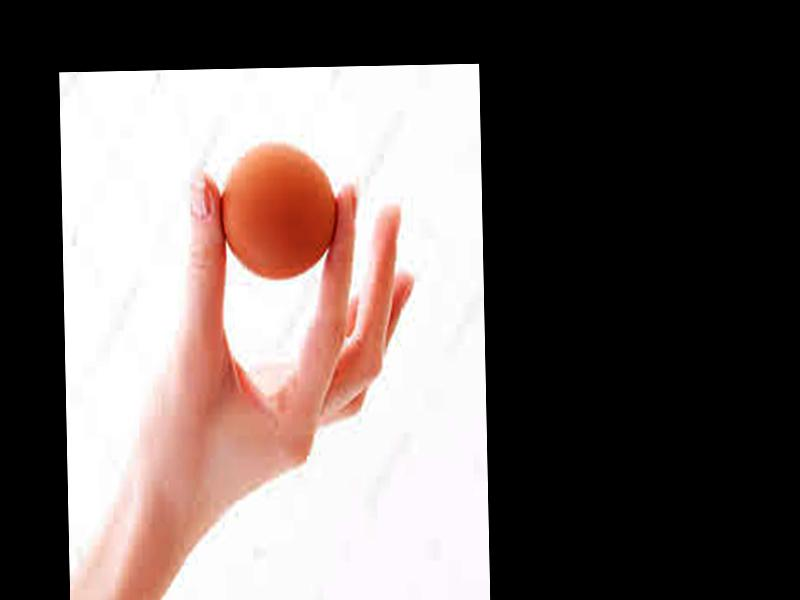Eggs: (218, 144, 339, 277)
